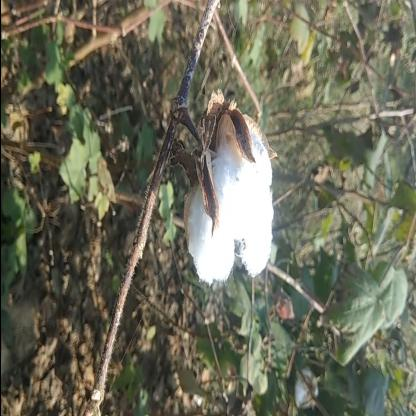cotton_ready: (144, 80, 284, 288)
